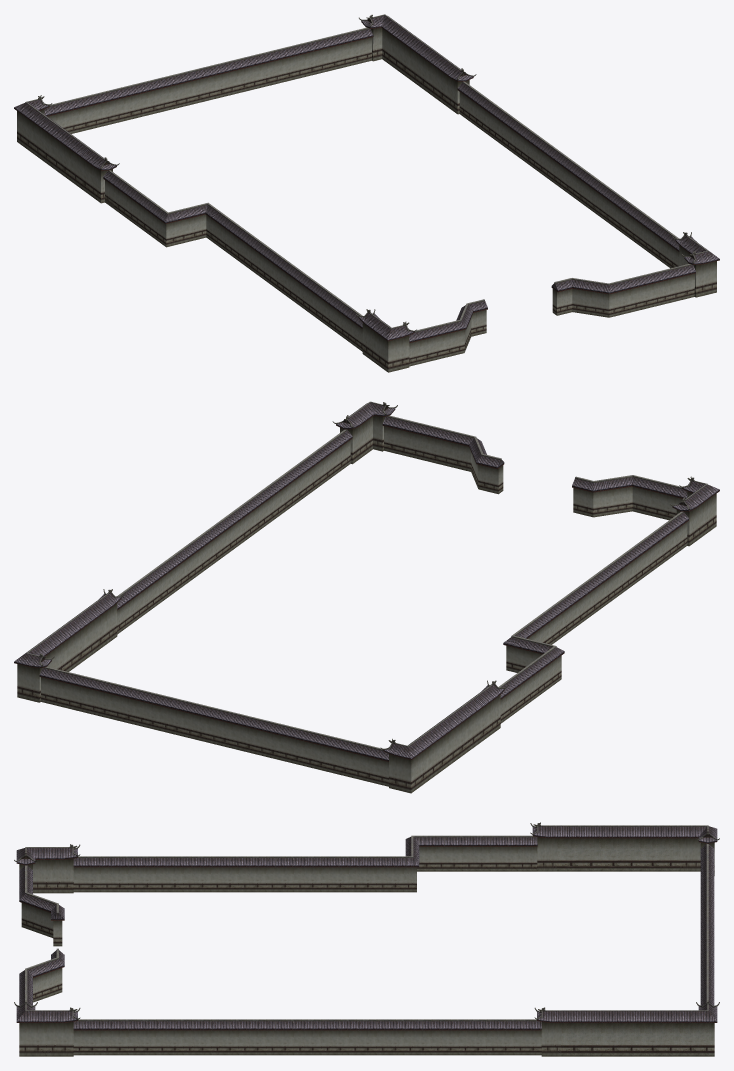
The model's file is XCZ_Ground_qiang.FBX.
3 views of the same model, one above another, from view 1: azimuth 30°, elevation 25°; view 2: azimuth 150°, elevation 25°; view 3: azimuth 270°, elevation 25° (orthographic). The views are drawn at different scales.
Parts seen in each view (by area): view 1: XCZ_Ground_qiang; view 2: XCZ_Ground_qiang; view 3: XCZ_Ground_qiang.
Boxes of the visible parts, x1=… form: XCZ_Ground_qiang: x1=14, y1=14, x2=719, y2=372; XCZ_Ground_qiang: x1=14, y1=401, x2=719, y2=793; XCZ_Ground_qiang: x1=14, y1=822, x2=719, y2=1056.
Size of the model in its own units: 6689 by 736 by 10239.
